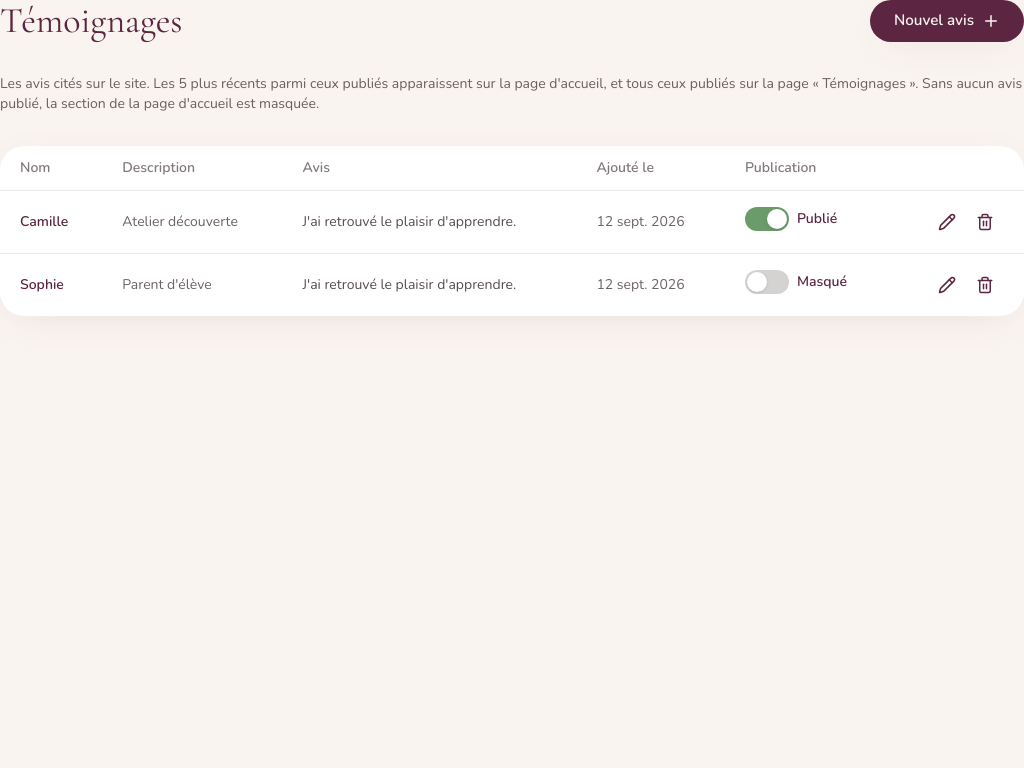
Test case: ReviewsEditor › deletes a review once confirmed, then reloads the page
Click the button named "Supprimer l'avis de Camille": {"x": 985, "y": 222} left=966, top=203, right=1004, bottom=241
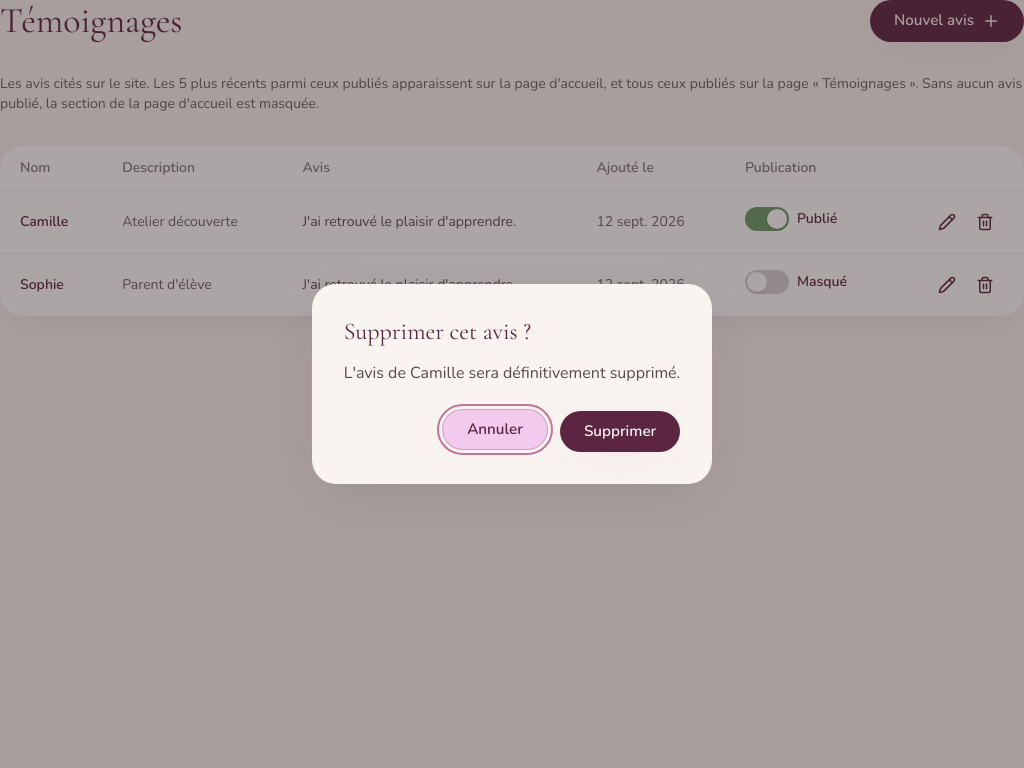
Click the button "Supprimer": {"x": 620, "y": 432} left=560, top=411, right=680, bottom=452
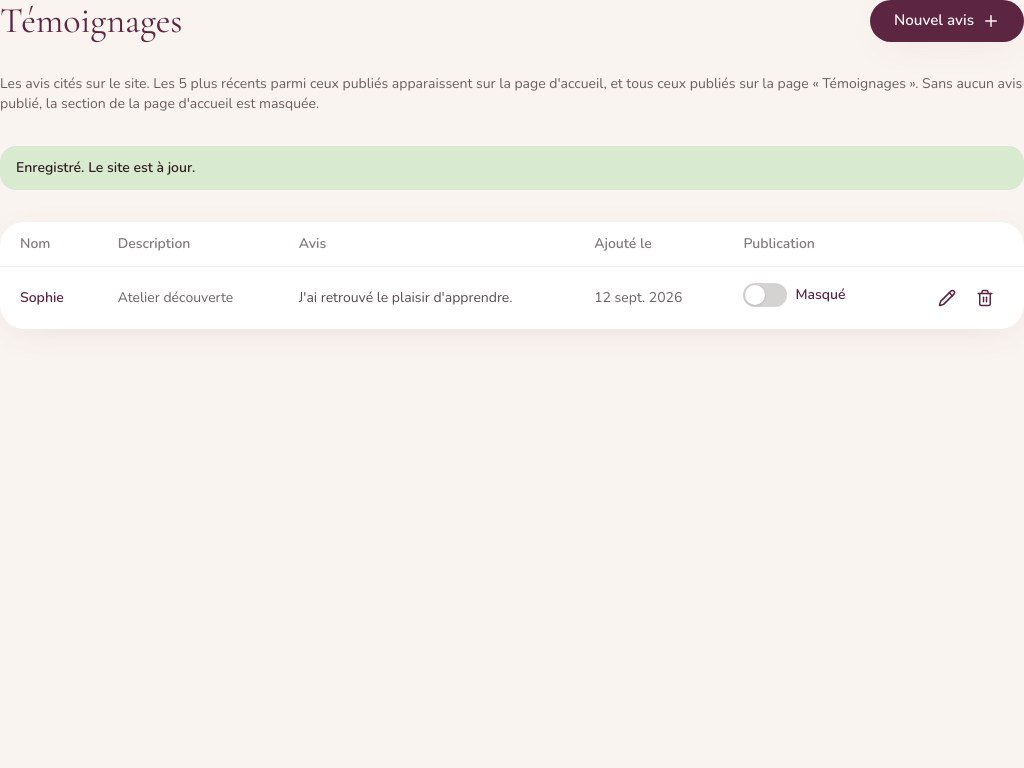
Result: the text "Enregistré. Le site est à jour." is shown at left=0, top=146, right=1023, bottom=190
Result: the link "Camille" is gone
